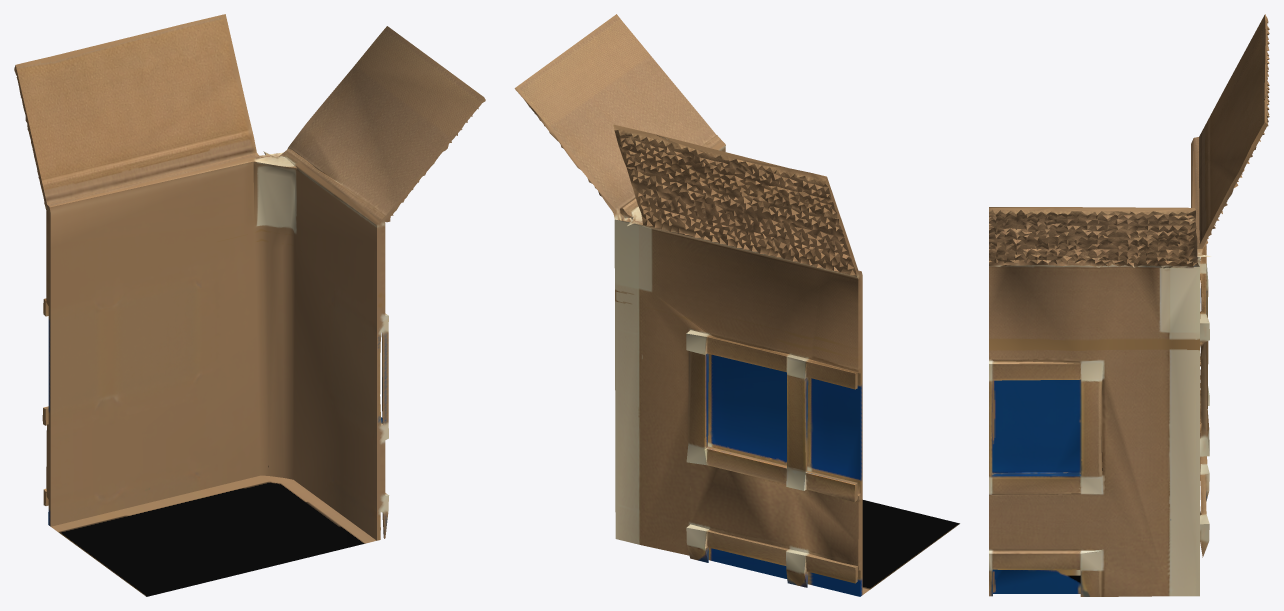
Rendered from 16-topper-back-right.fbx.
The picture shows the model from 3 angles, left to right: view 1: azimuth 30°, elevation 25°; view 2: azimuth 150°, elevation 25°; view 3: azimuth 270°, elevation 25°; orthographic projection. The views are drawn at different scales.
Visible parts, largest first — view 1: topper-back-right; view 2: topper-back-right; view 3: topper-back-right.
Boxes of the visible parts, <box> form: topper-back-right: <box>14,14,485,596</box>; topper-back-right: <box>514,14,959,596</box>; topper-back-right: <box>989,14,1269,596</box>.
Size of the model in its own units: 7201 by 8800 by 4870.
1 material, 1 textured.
